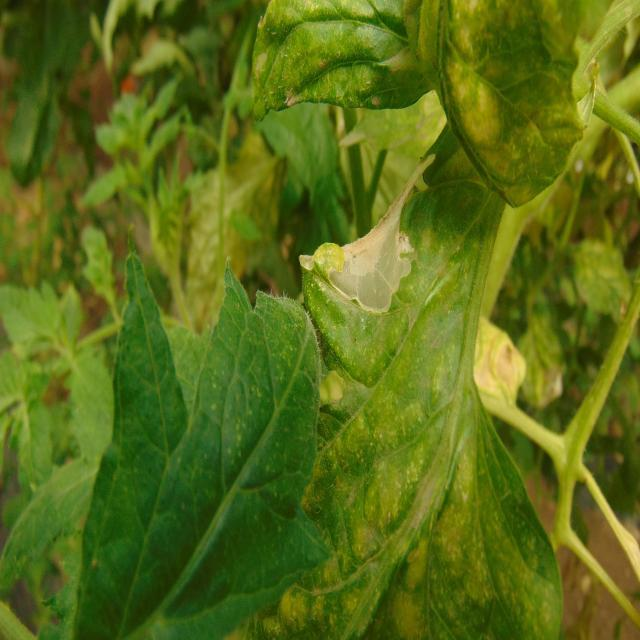Tuta absoluta: (313, 201, 446, 329)
